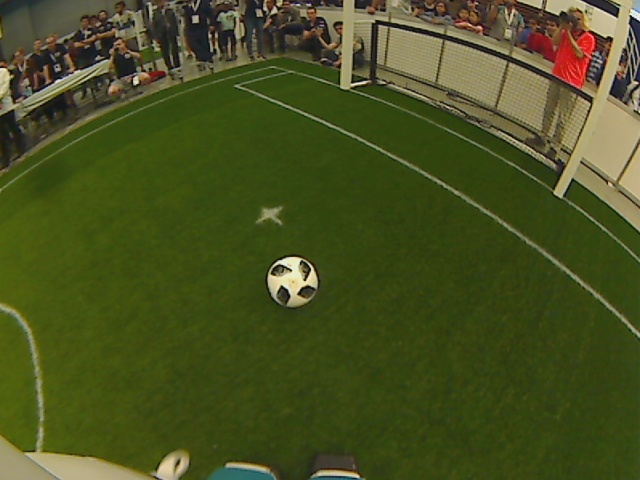ball: (263, 255, 320, 309)
